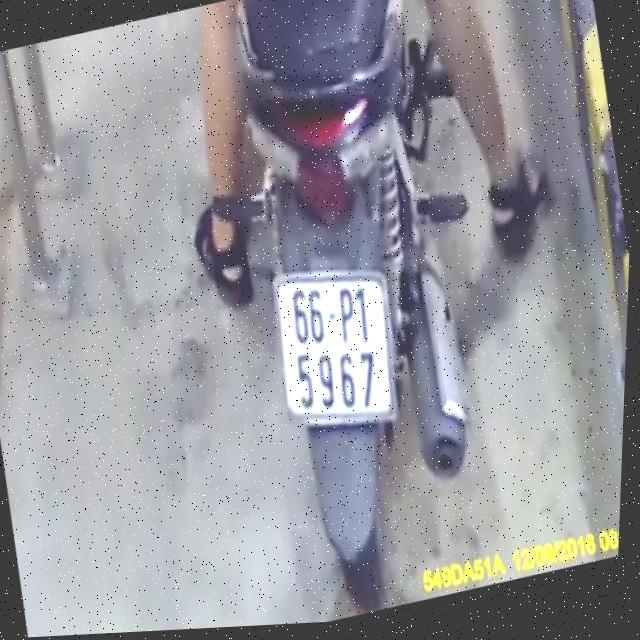motorcycle: (192, 0, 543, 629)
plate: (258, 248, 418, 448)
